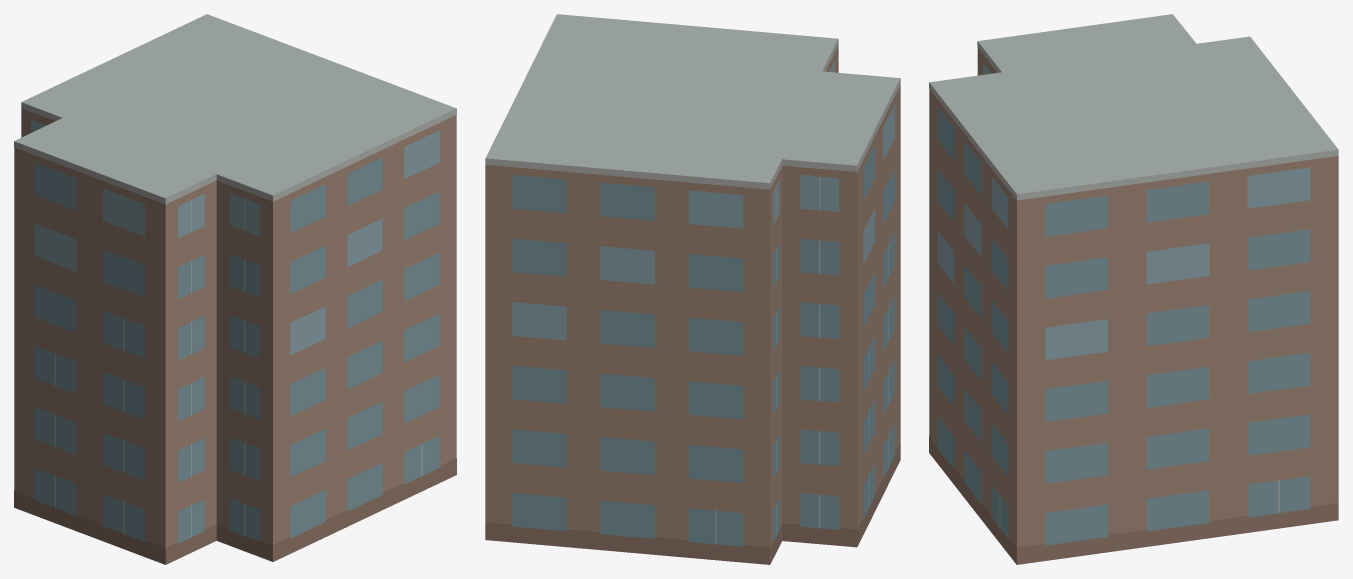
Rendered from survey-upis-32851968.glb.
The picture shows the model from 3 angles, left to right: view 1: azimuth 30°, elevation 25°; view 2: azimuth 150°, elevation 25°; view 3: azimuth 270°, elevation 25°; orthographic projection. The views are drawn at different scales.
Parts seen in each view (by area): view 1: survey-upis-32851968.tmp; view 2: survey-upis-32851968.tmp; view 3: survey-upis-32851968.tmp.
Boxes of the visible parts, x1,y1,x2,y2 form: survey-upis-32851968.tmp: (14, 14, 456, 564); survey-upis-32851968.tmp: (485, 14, 900, 564); survey-upis-32851968.tmp: (929, 14, 1338, 564).
Bounding box in the file's own units: 15.25 × 14.6 × 14.64.
